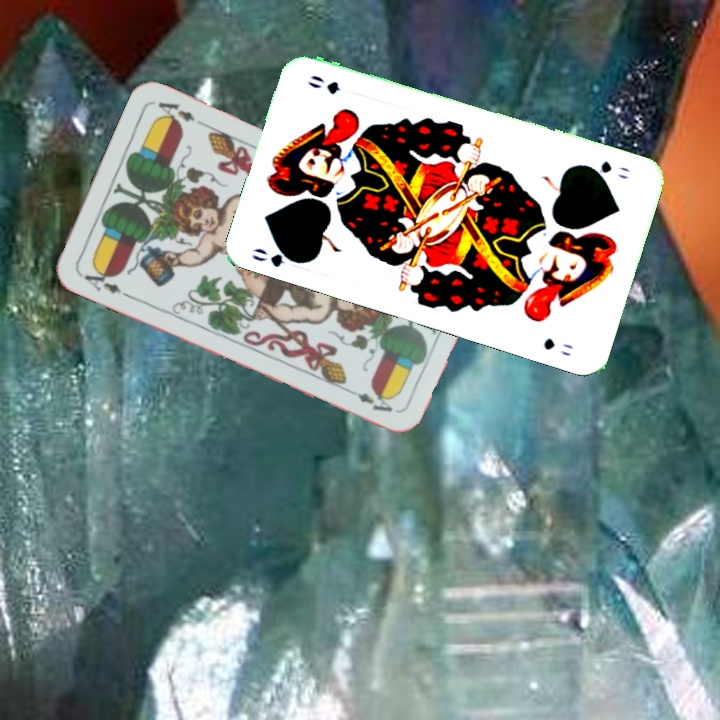EA: (76, 263, 132, 300)
GO: (248, 242, 307, 270), (580, 157, 632, 182)
